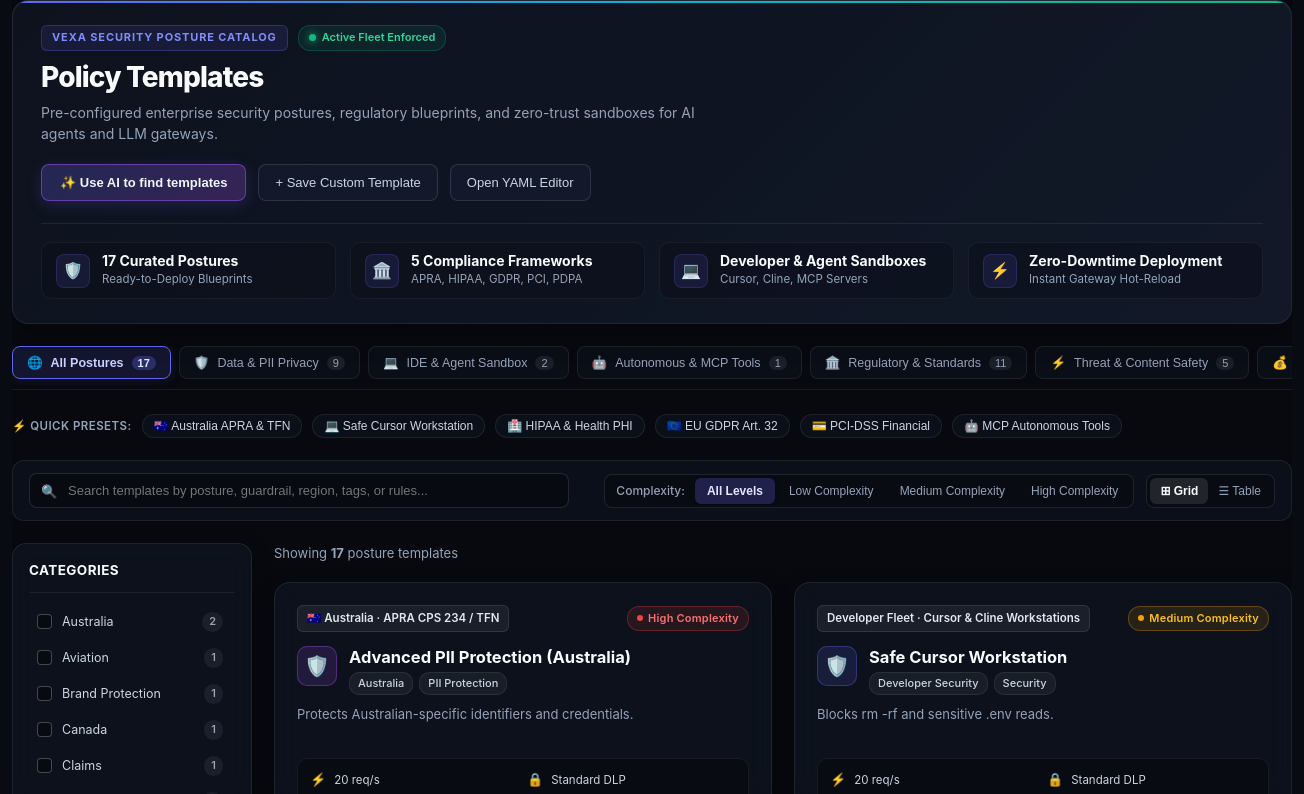
Test: PolicyMarketplace › filters templates by domain navigation tab
The width and height of the screenshot is (1304, 794).
Expected: the heading "Advanced PII Protection (Australia)" is shown, [349,647,631,667]
Expected: the heading "Safe Cursor Workstation" is shown, [869,647,1067,667]
Click the button "💻 IDE & Agent Sandbox 2" at coordinates (468, 363), box [368,346,568,379]
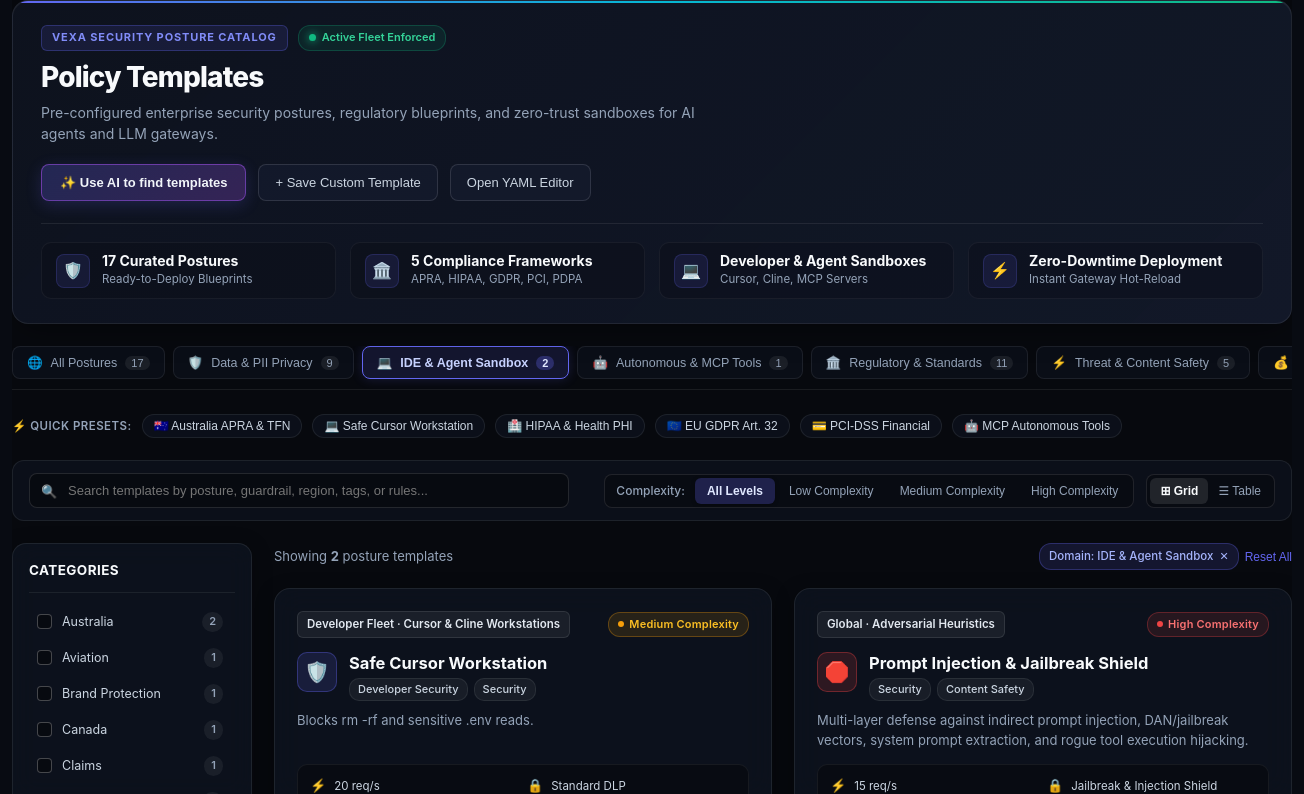
Expected: the heading "Safe Cursor Workstation" is shown, [349,652,547,672]
Result: the heading "Advanced PII Protection (Australia)" is gone
